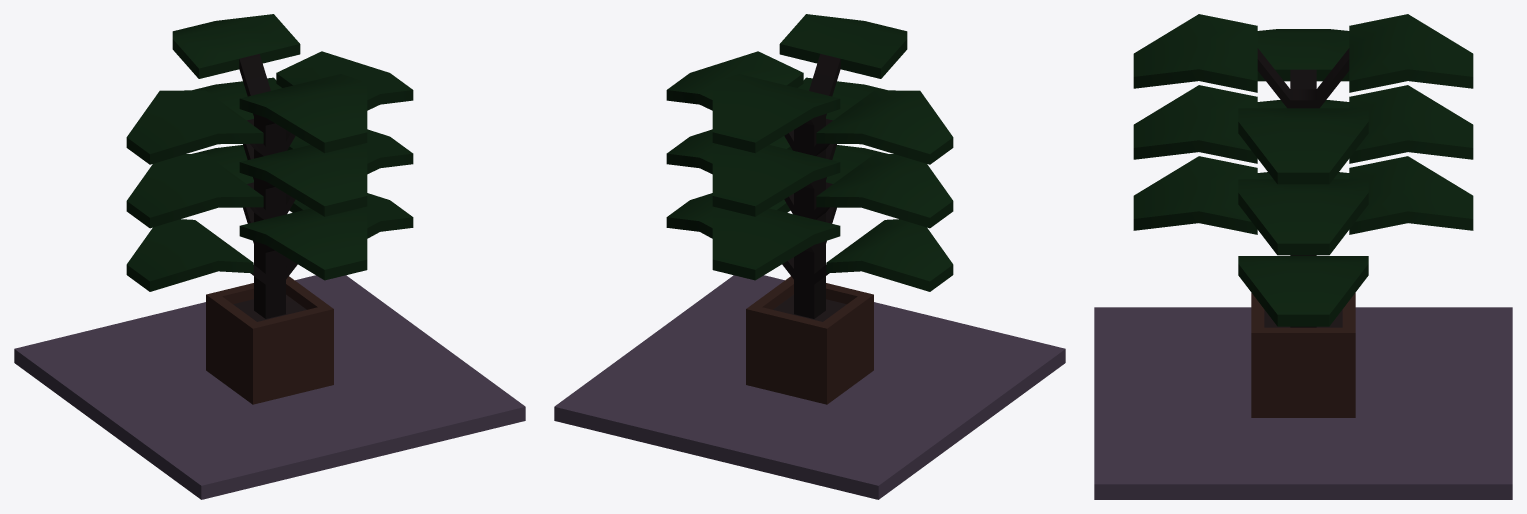
File: plant.dae
The picture shows the model from 3 angles, left to right: view 1: azimuth 30°, elevation 25°; view 2: azimuth 150°, elevation 25°; view 3: azimuth 270°, elevation 25°; orthographic projection. The views are drawn at different scales.
Visible parts, largest first — view 1: plant_MSH; view 2: plant_MSH; view 3: plant_MSH.
Part boxes in pixels (left/top/right/bottom): plant_MSH: left=14, top=14, right=525, bottom=499; plant_MSH: left=554, top=14, right=1065, bottom=499; plant_MSH: left=1094, top=14, right=1512, bottom=499.
Bounding box in the file's own units: 1 × 0.9766 × 1.
